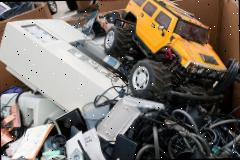electronic: (1, 15, 135, 127)
